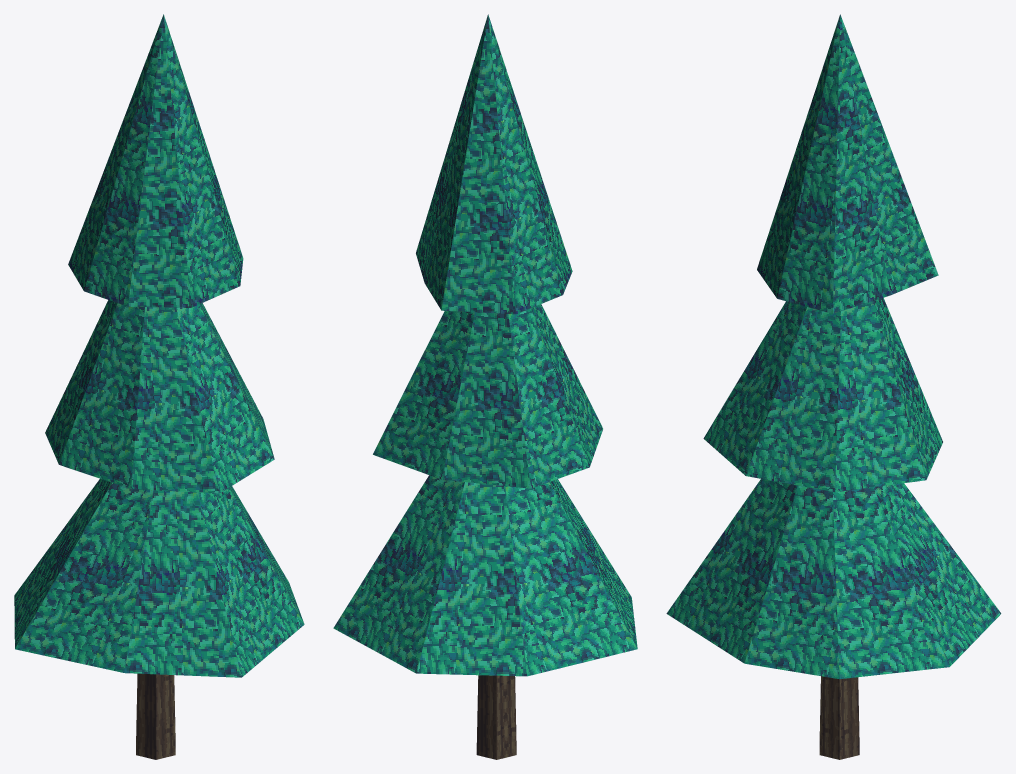
File: pine.glb
3 views of the same model, side by side, from view 1: azimuth 30°, elevation 25°; view 2: azimuth 150°, elevation 25°; view 3: azimuth 270°, elevation 25° (orthographic).
Parts seen in each view (by area): view 1: pine; view 2: pine; view 3: pine.
Part boxes in pixels (x1,y1,x2,y2): pine: [14, 14, 304, 759]; pine: [333, 14, 637, 759]; pine: [666, 14, 1001, 759].
Bounding box in the file's own units: 2.76 × 7.05 × 2.89.
2 materials, 2 textured.
